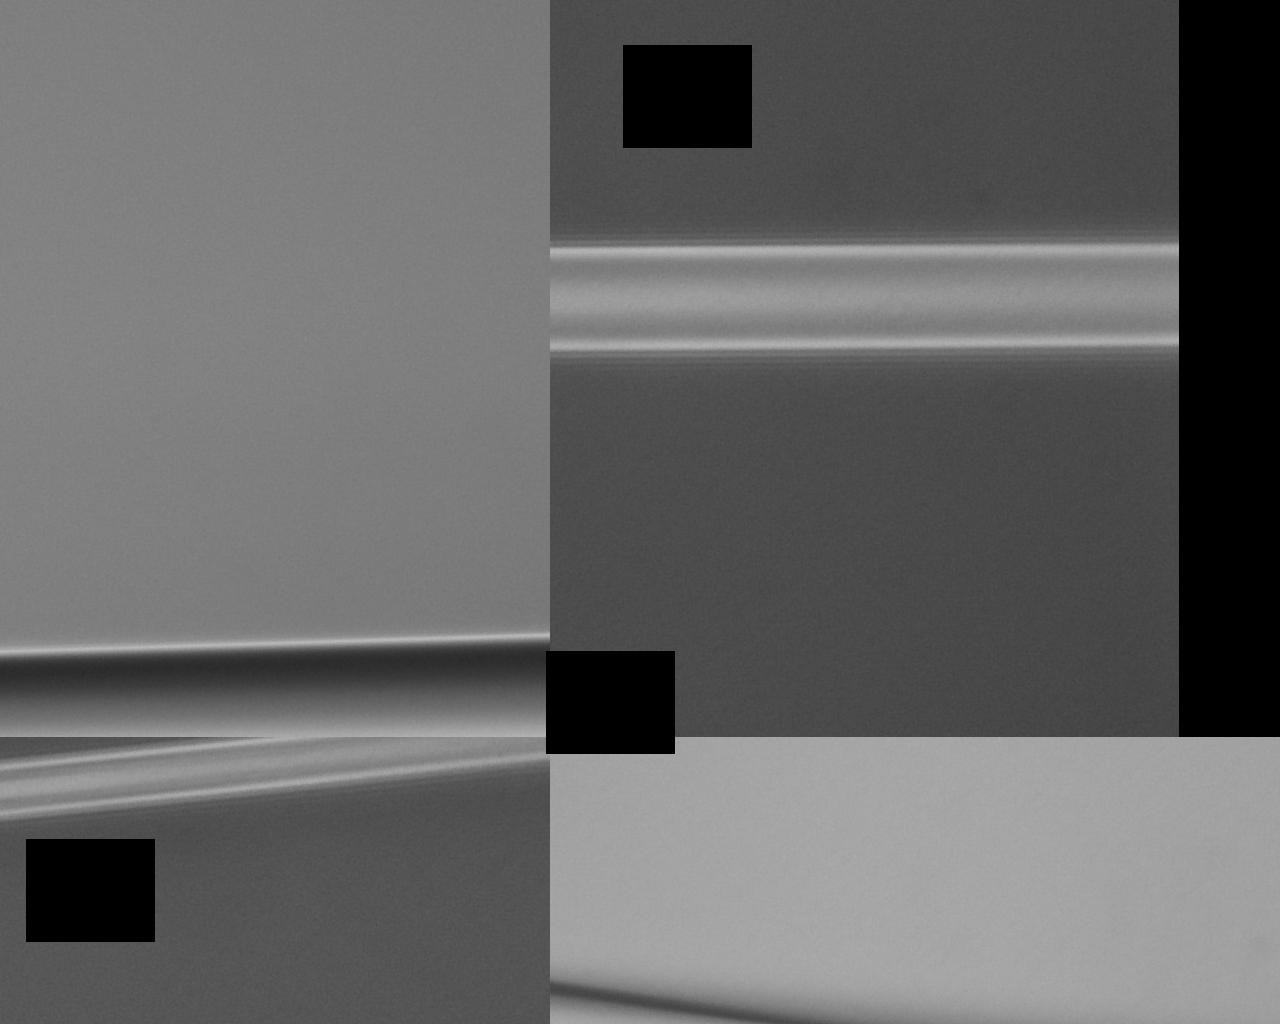fiber: (512, 491, 1148, 791), (102, 0, 334, 491), (71, 491, 209, 1024), (1109, 0, 1201, 491)
